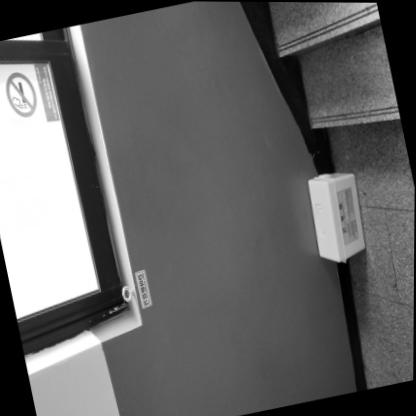DDL: (303, 166, 372, 266)
